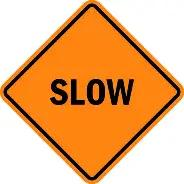Slow: (3, 3, 180, 180)
Stop: (4, 3, 180, 176)
